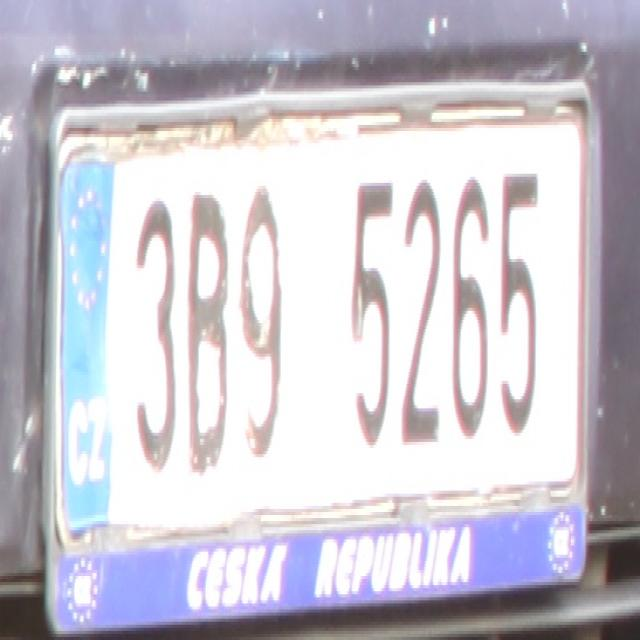2: (400, 177, 441, 448)
3: (133, 198, 179, 472)
5: (350, 174, 398, 448), (500, 168, 538, 432)
6: (452, 171, 488, 445)
9: (239, 189, 283, 472)
B: (184, 192, 229, 475)
